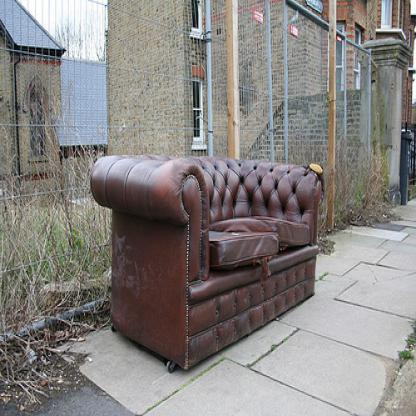sofa: (88, 150, 326, 372)
